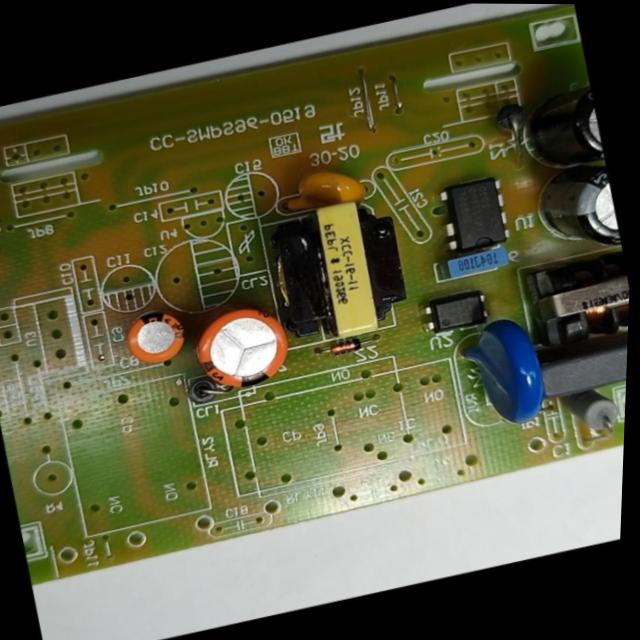Cap1: (179, 297, 303, 401)
Cap2: (117, 303, 193, 372)
Cap3: (527, 163, 625, 264)
Cap4: (511, 82, 608, 179)
MOSFET: (430, 172, 517, 257)
Mov: (447, 309, 558, 438)
Resistor: (559, 386, 626, 442)
Transformer: (261, 191, 422, 355), (521, 251, 631, 354)
